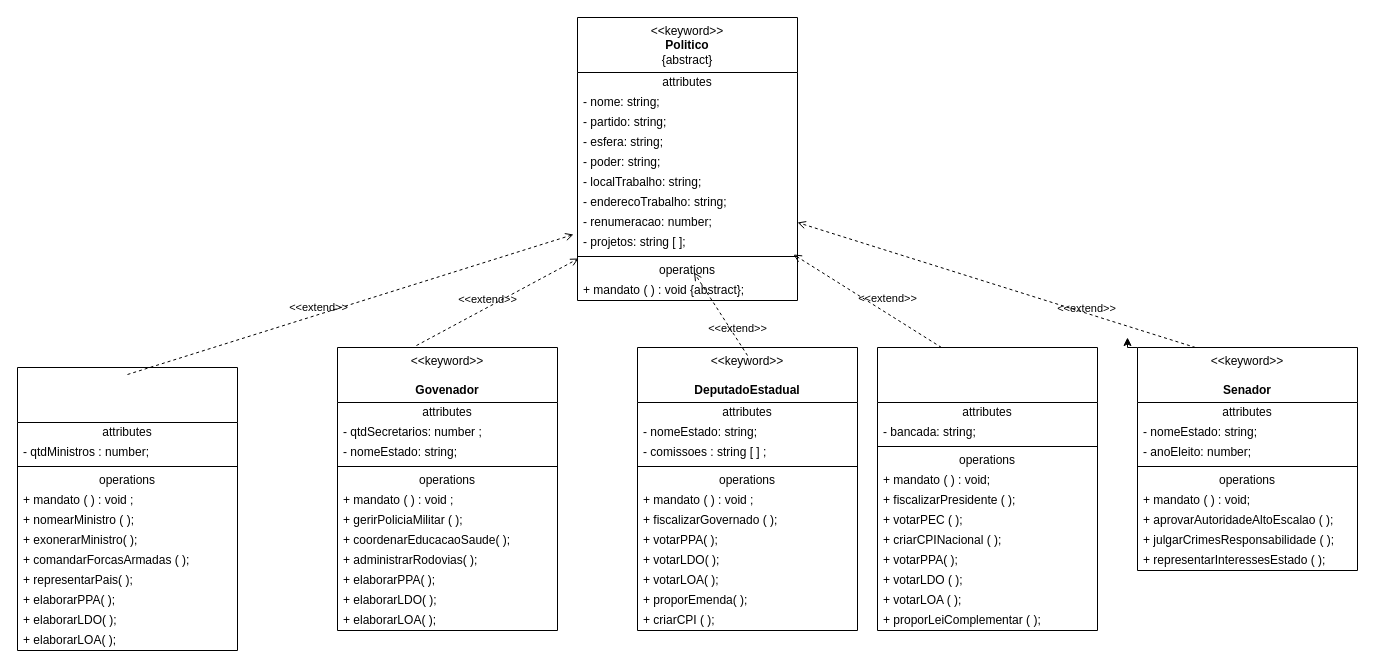
The diagram is 1375 pixels wide and 668 high, and some of its shapes have lost their labels. Here are the shapes that lost their labels. From the top down, the box of each, then its label:
(16, 366, 238, 650): <<keyword>> Presidente
(876, 346, 1098, 630): <<keyword>> DeputadoFederal
